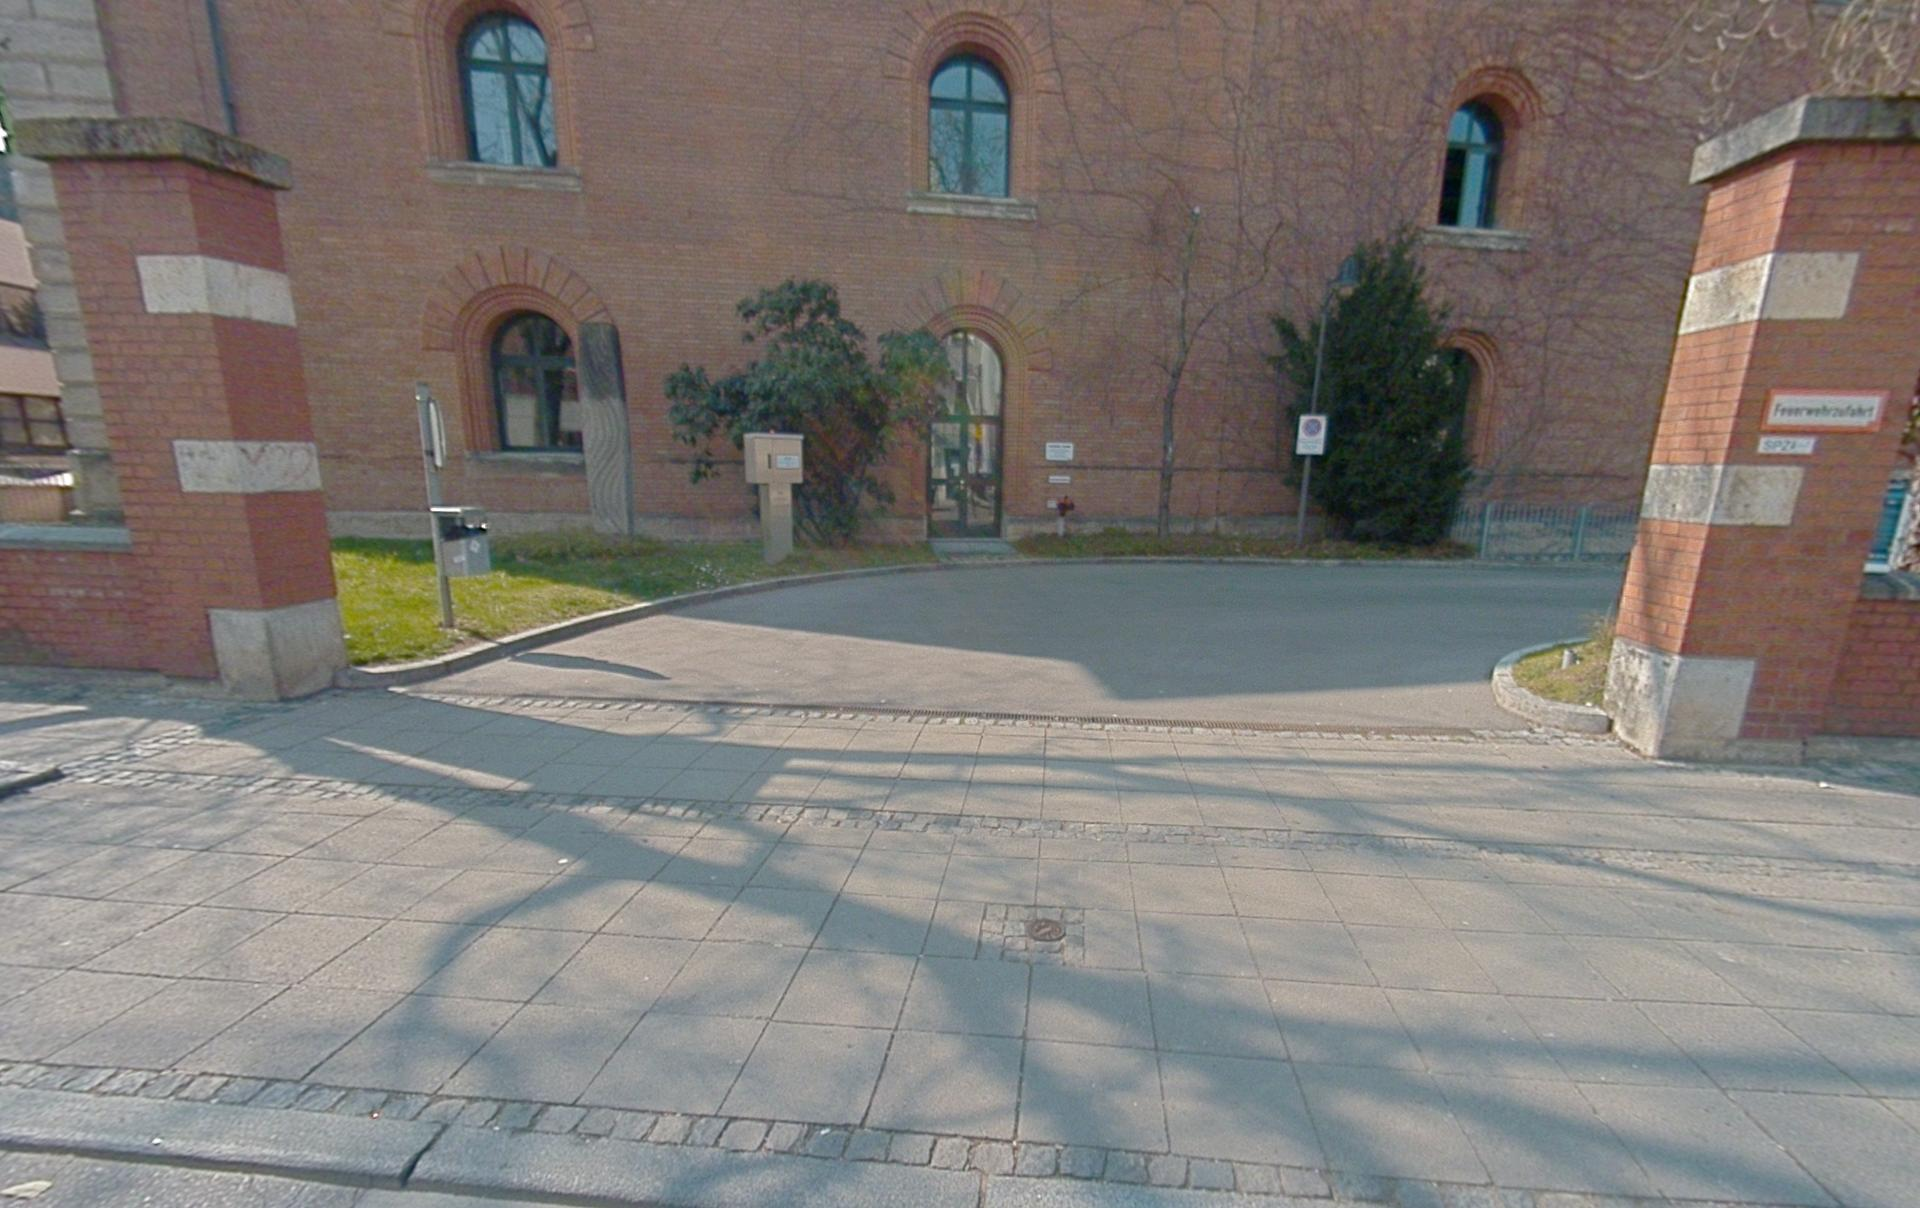traffic sign: (1295, 413, 1327, 455)
